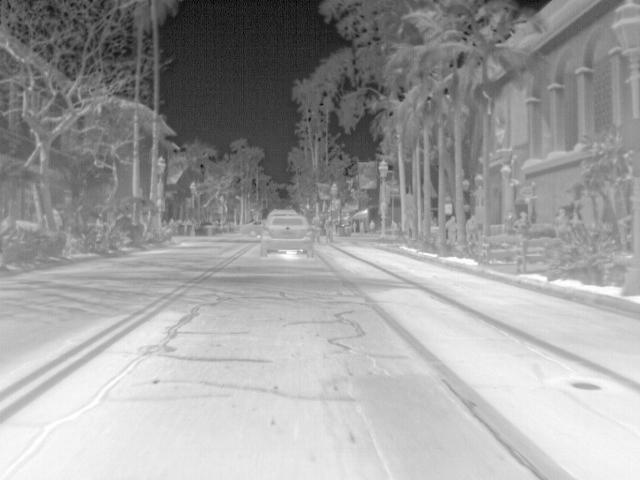car: (259, 214, 316, 257), (240, 218, 266, 237)
person: (443, 215, 458, 243), (510, 211, 528, 233), (464, 215, 478, 243), (323, 216, 334, 243), (553, 208, 567, 227), (350, 218, 359, 236), (367, 218, 378, 232)
